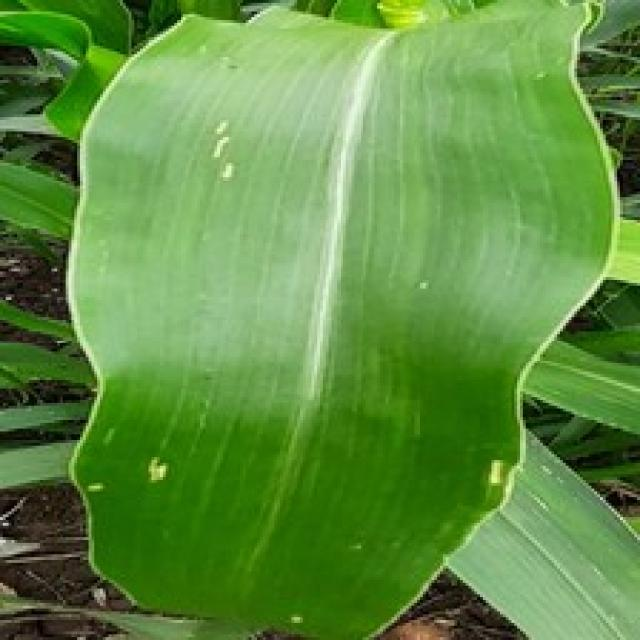Corn: (60, 0, 620, 637), (443, 423, 637, 637)
